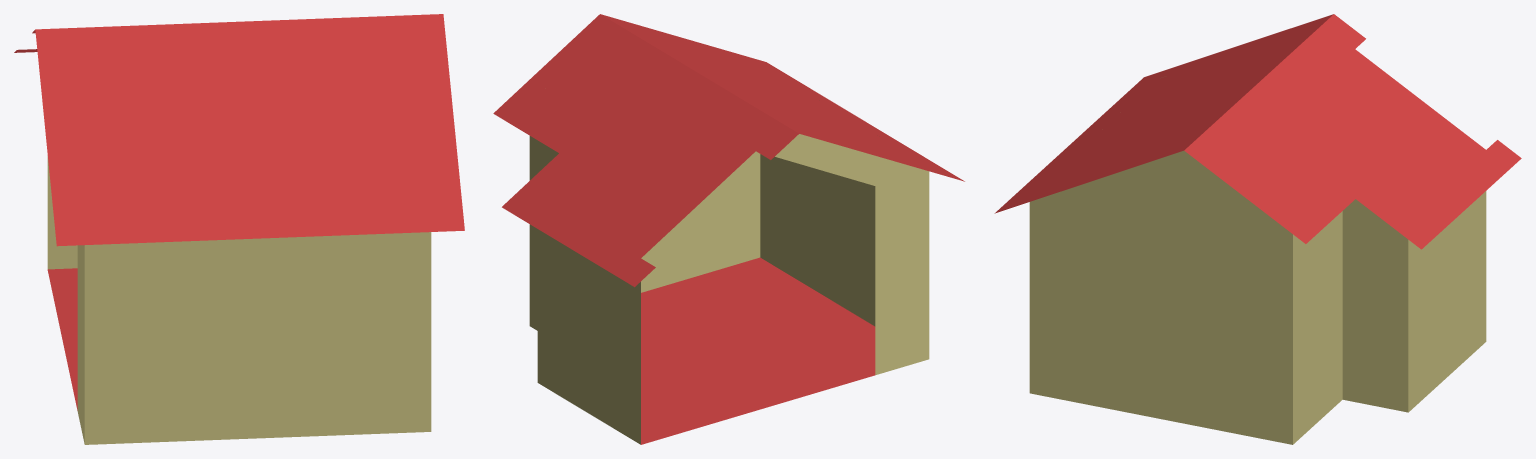
3 renders of one model, left to right at view 1: azimuth 30°, elevation 25°; view 2: azimuth 150°, elevation 25°; view 3: azimuth 270°, elevation 25°, orthographic. The views are drawn at different scales.
Bounding box in the file's own units: 13.08 × 14.75 × 8.81.
